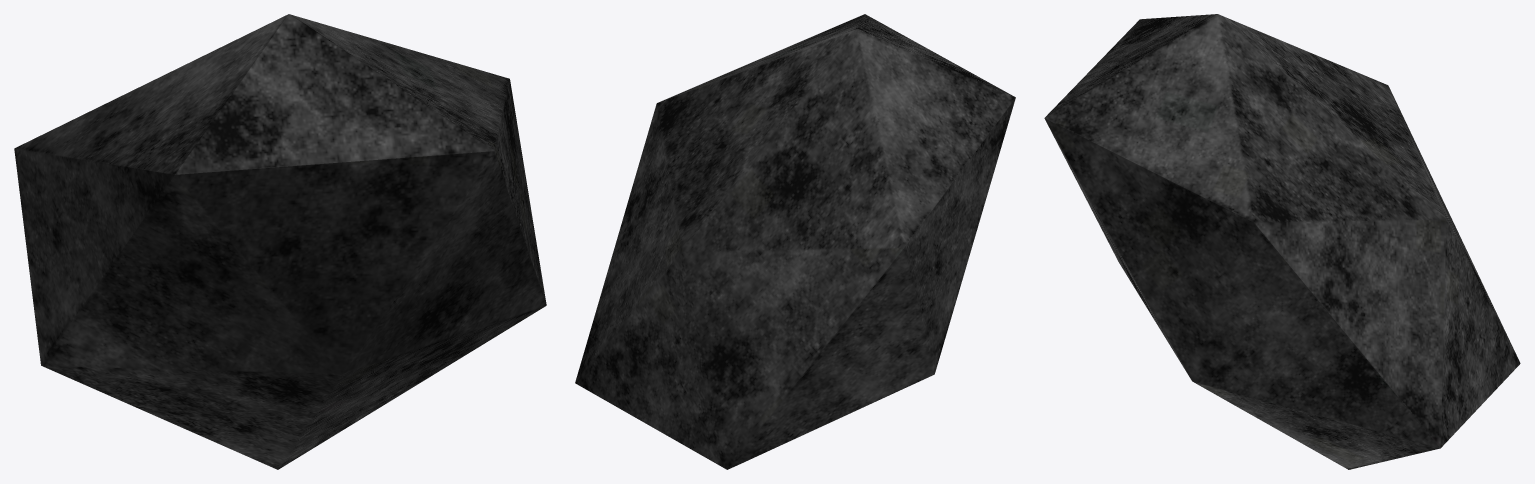
File: Stone.fbx
The picture shows the model from 3 angles, left to right: view 1: azimuth 30°, elevation 25°; view 2: azimuth 150°, elevation 25°; view 3: azimuth 270°, elevation 25°; orthographic projection. The views are drawn at different scales.
Parts seen in each view (by area): view 1: Stone; view 2: Stone; view 3: Stone.
Boxes of the visible parts, bbox=[...] form: Stone: bbox=[14, 14, 546, 469]; Stone: bbox=[575, 14, 1015, 469]; Stone: bbox=[1044, 14, 1520, 469].
Size of the model in its own units: 8.23 by 10.08 by 10.
Materials: 1 (1 with a texture image).
